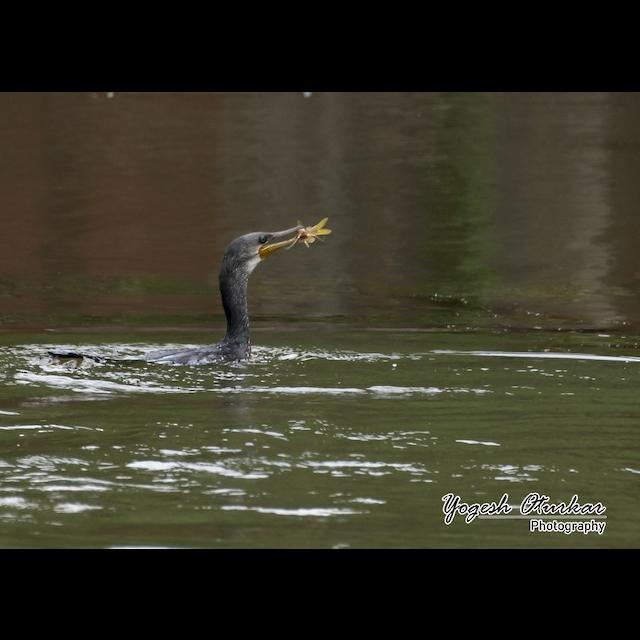cormorant: (44, 212, 330, 386)
